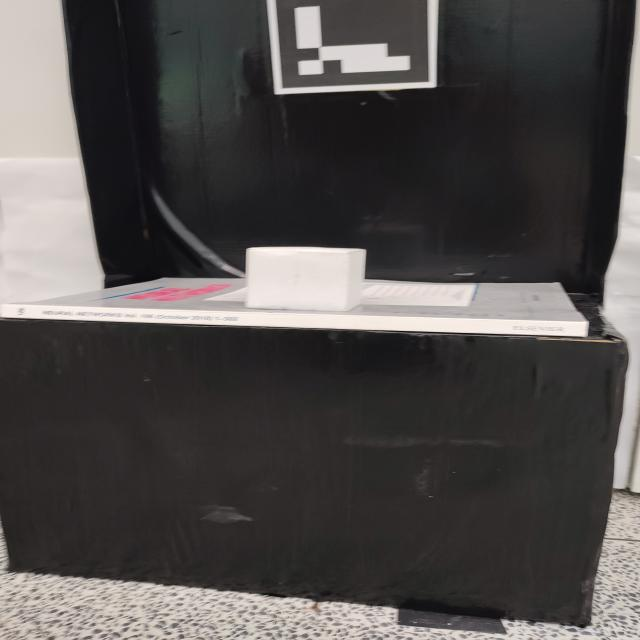bale: (241, 245, 376, 314)
